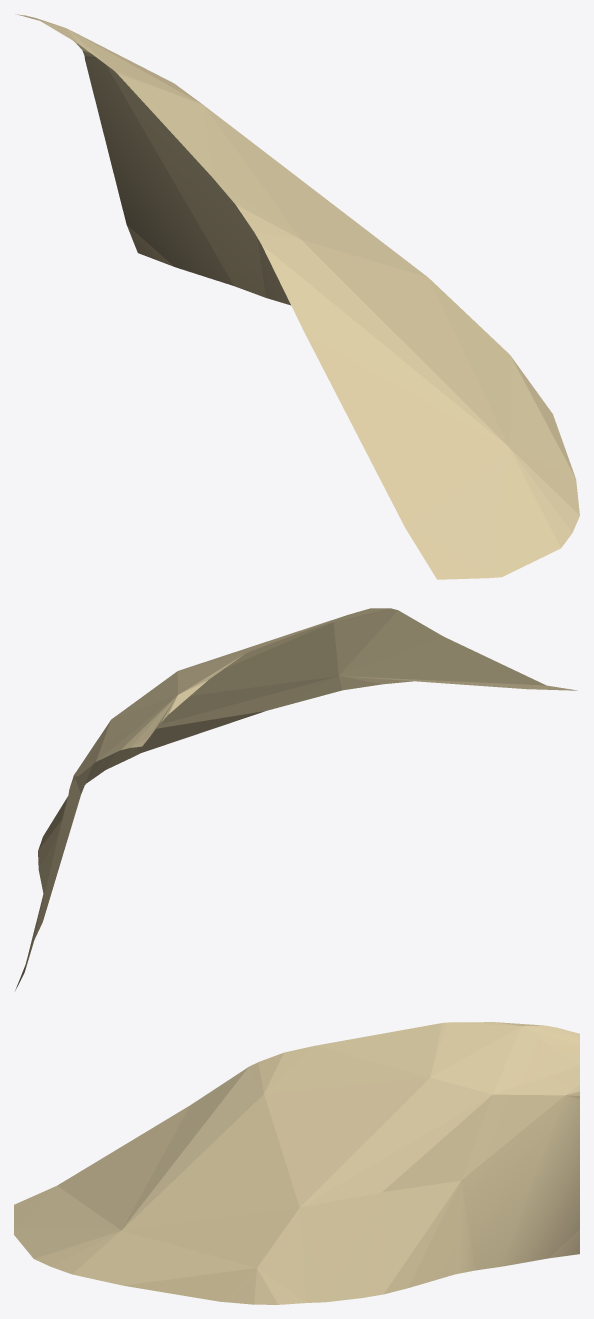
Rendered from bisect-8-4-3.gltf.
3 views of the same model, one above another, from view 1: azimuth 30°, elevation 25°; view 2: azimuth 150°, elevation 25°; view 3: azimuth 270°, elevation 25° (orthographic). The views are drawn at different scales.
Visible parts, largest first — view 1: bisect-8-4-3; view 2: bisect-8-4-3; view 3: bisect-8-4-3.
Boxes of the visible parts, box(x1,y1,x2,y2) form: bisect-8-4-3: box(15, 14, 579, 579); bisect-8-4-3: box(15, 608, 577, 990); bisect-8-4-3: box(14, 1022, 579, 1304).
Bounding box in the file's own units: 7.63 × 7.47 × 20.
